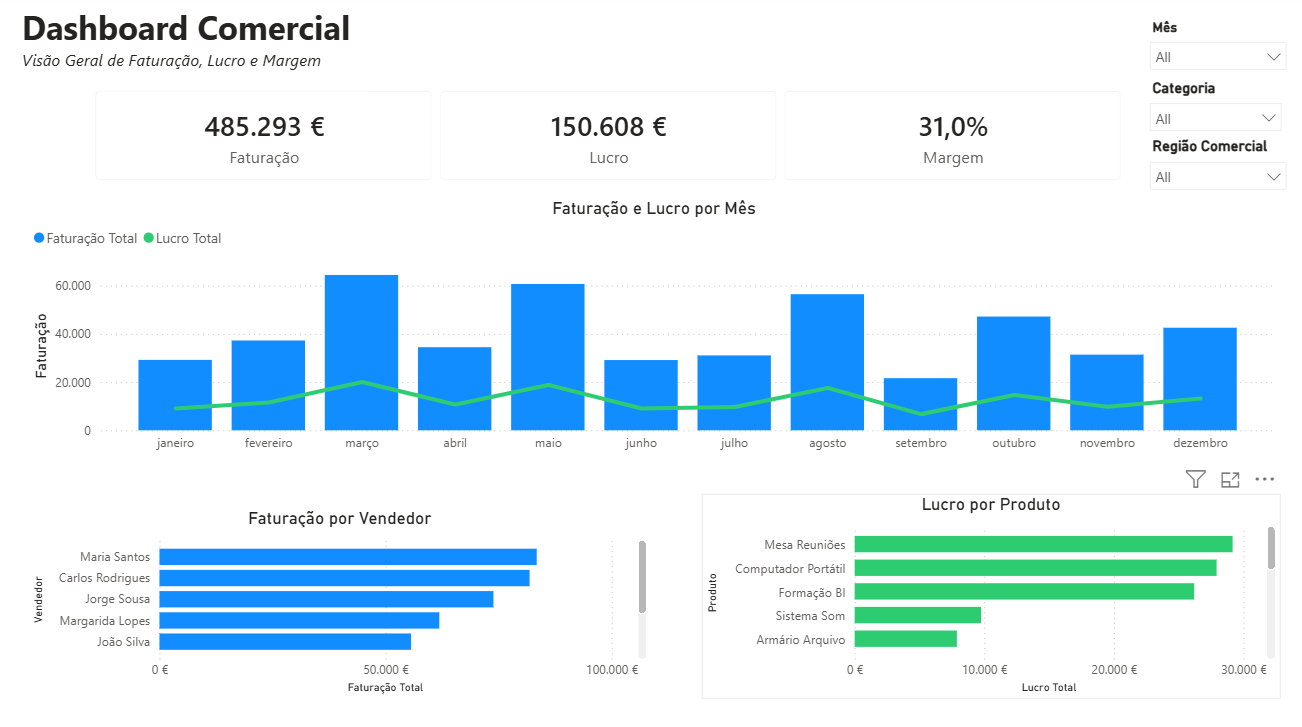

Layout of this report page (visuals, bound fields, positions):
{"tool":"powerbi","page":{"name":"Página 1","canvas":[1280,720],"ordinal":0},"visuals":[{"type":"cardVisual","fields":{"Data":["_Medidas.Faturação Total","_Medidas.Lucro Total","_Medidas.Margem %"]},"box":[78.3,77,1038.2,121.1],"z":0},{"type":"lineStackedColumnComboChart","title":"Faturação e Lucro por Mês","fields":{"Category":["Vendas.Data.Variação.Hierarquia de Datas.Mês","Vendas.Data.Variação.Hierarquia de Datas.Dia"],"Y":["_Medidas.Faturação Total"],"Y2":["_Medidas.Lucro Total"]},"box":[29.3,198.1,1225.3,271.5],"z":1000},{"type":"clusteredBarChart","title":"Lucro por Produto","fields":{"Category":["Produtos.Produto"],"Y":["_Medidas.Lucro Total"]},"box":[688.5,487.9,566.2,200.5],"z":2000},{"type":"clusteredBarChart","title":"Faturação por Vendedor","fields":{"Category":["Vendedores.Vendedor"],"Y":["_Medidas.Faturação Total"]},"box":[29.3,501.4,610.2,187.1],"z":3000},{"type":"slicer","fields":{"Values":["Vendas.Data.Variação.Hierarquia de Datas.Mês"]},"box":[1116.4,19.6,154.1,57.5],"z":4000},{"type":"slicer","fields":{"Values":["Produtos.Categoria"]},"box":[1116.4,77,149.2,61.1],"z":5000},{"type":"slicer","fields":{"Values":["Vendedores.Regiao_Comercial"]},"box":[1116.4,134.5,154.1,63.6],"z":6000},{"type":"textbox","box":[18.3,4.9,347.3,89.3],"z":7001}]}

Visuals, with their boxes in screenshot pixels (x1, y1, x2, y2), scaled from the page's 1280x720 canvas onto the 1302x727 screenshot:
cardVisual - _Medidas.Faturação Total x _Medidas.Lucro Total: [x1=80, y1=78, x2=1136, y2=200]
"Faturação e Lucro por Mês" lineStackedColumnComboChart: [x1=30, y1=200, x2=1276, y2=474]
"Lucro por Produto" clusteredBarChart: [x1=700, y1=493, x2=1276, y2=695]
"Faturação por Vendedor" clusteredBarChart: [x1=30, y1=506, x2=650, y2=695]
slicer - Vendas.Data.Variação.Hierarquia de Datas.Mês: [x1=1136, y1=20, x2=1292, y2=78]
slicer - Produtos.Categoria: [x1=1136, y1=78, x2=1287, y2=139]
slicer - Vendedores.Regiao_Comercial: [x1=1136, y1=136, x2=1292, y2=200]
textbox: [x1=19, y1=5, x2=372, y2=95]
